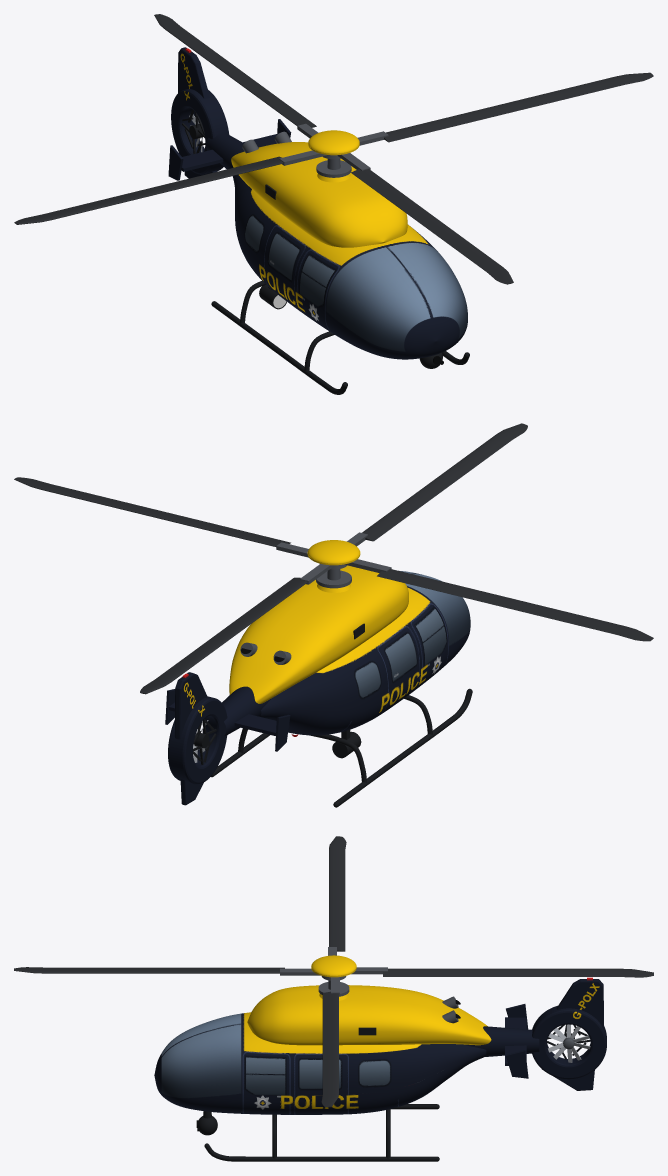
The model's file is police_helicopter.glb.
3 renders of one model, top to bottom at view 1: azimuth 30°, elevation 25°; view 2: azimuth 150°, elevation 25°; view 3: azimuth 270°, elevation 25°, orthographic. The views are drawn at different scales.
Visible parts, largest first — view 1: body, rotor_main; view 2: body, rotor_main; view 3: body, rotor_main, rotor_tail.
Boxes of the visible parts, x1=… form: body: x1=168, y1=47, x2=469, y2=394; rotor_main: x1=14, y1=14, x2=653, y2=284; body: x1=165, y1=565, x2=472, y2=807; rotor_main: x1=14, y1=423, x2=653, y2=694; body: x1=154, y1=977, x2=606, y2=1161; rotor_main: x1=14, y1=836, x2=653, y2=1107; rotor_tail: x1=548, y1=1024, x2=590, y2=1062.
Size of the model in its own units: 12.4 by 3.74 by 12.4.
Materials: 1 (1 with a texture image).
